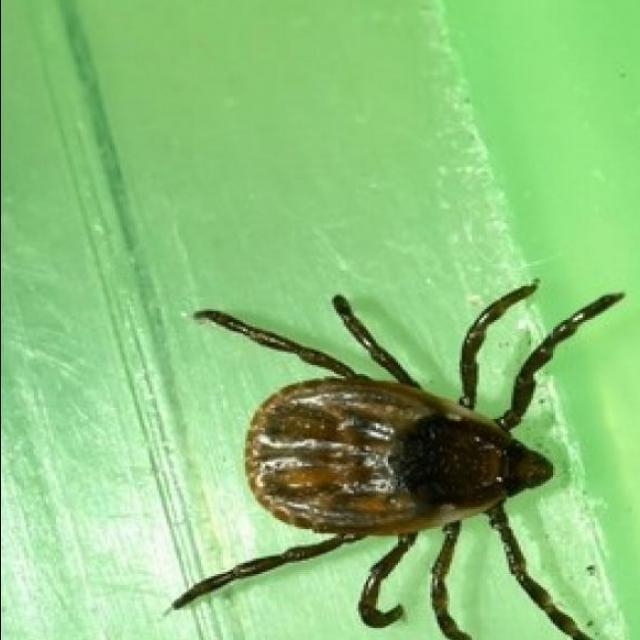Rhipicephalus Sanguineus-F: (171, 280, 623, 640)
